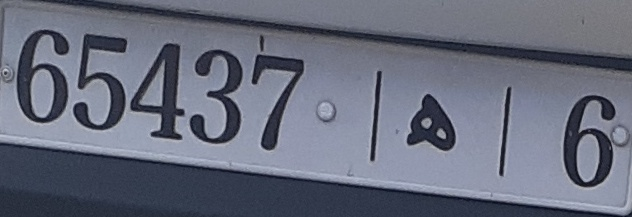3: (188, 44, 249, 149)
4: (129, 41, 189, 144)
5: (74, 31, 129, 132)
6: (13, 25, 73, 126), (560, 92, 618, 192)
7: (248, 50, 307, 158)
h: (400, 87, 465, 162)
